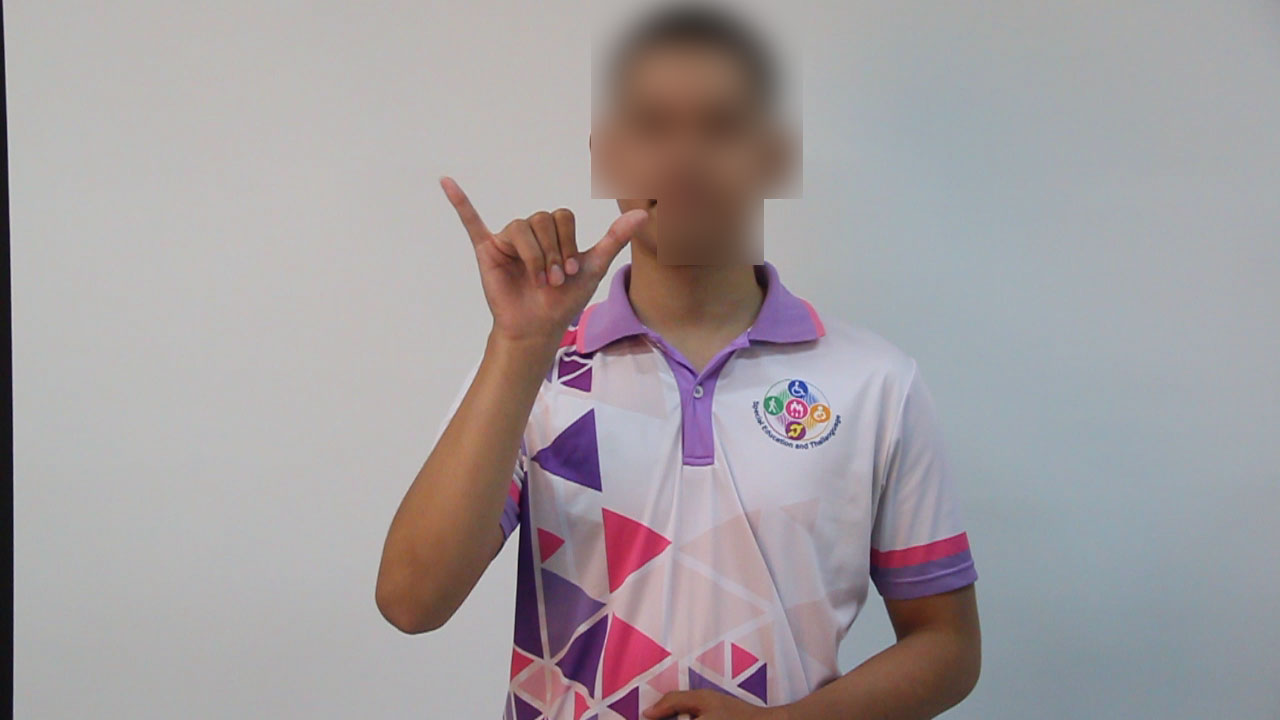yor: (427, 166, 651, 342)
